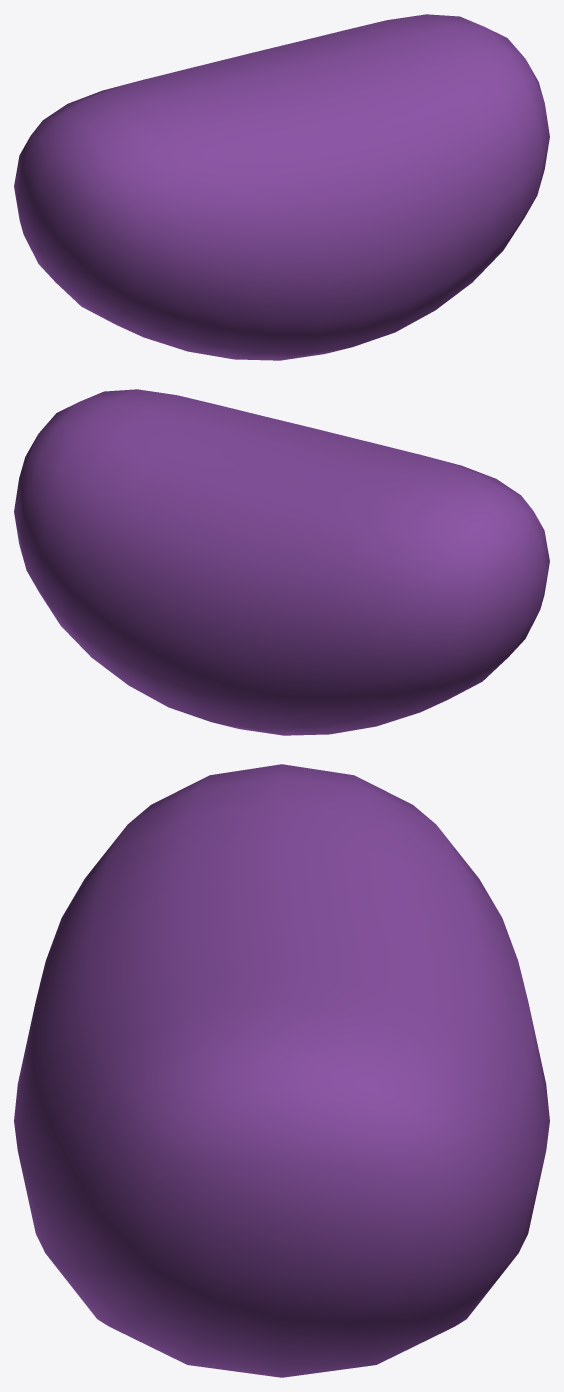
File: JellyBean.fbx
The picture shows the model from 3 angles, top to bottom: view 1: azimuth 30°, elevation 25°; view 2: azimuth 150°, elevation 25°; view 3: azimuth 270°, elevation 25°; orthographic projection. The views are drawn at different scales.
Visible parts, largest first — view 1: JellyBean; view 2: JellyBean; view 3: JellyBean.
Part boxes in pixels (x1,y1,x2,y2): JellyBean: (14,14,549,360); JellyBean: (14,389,549,735); JellyBean: (14,764,549,1377).
Bounding box in the file's own units: 423 × 225 × 256.
